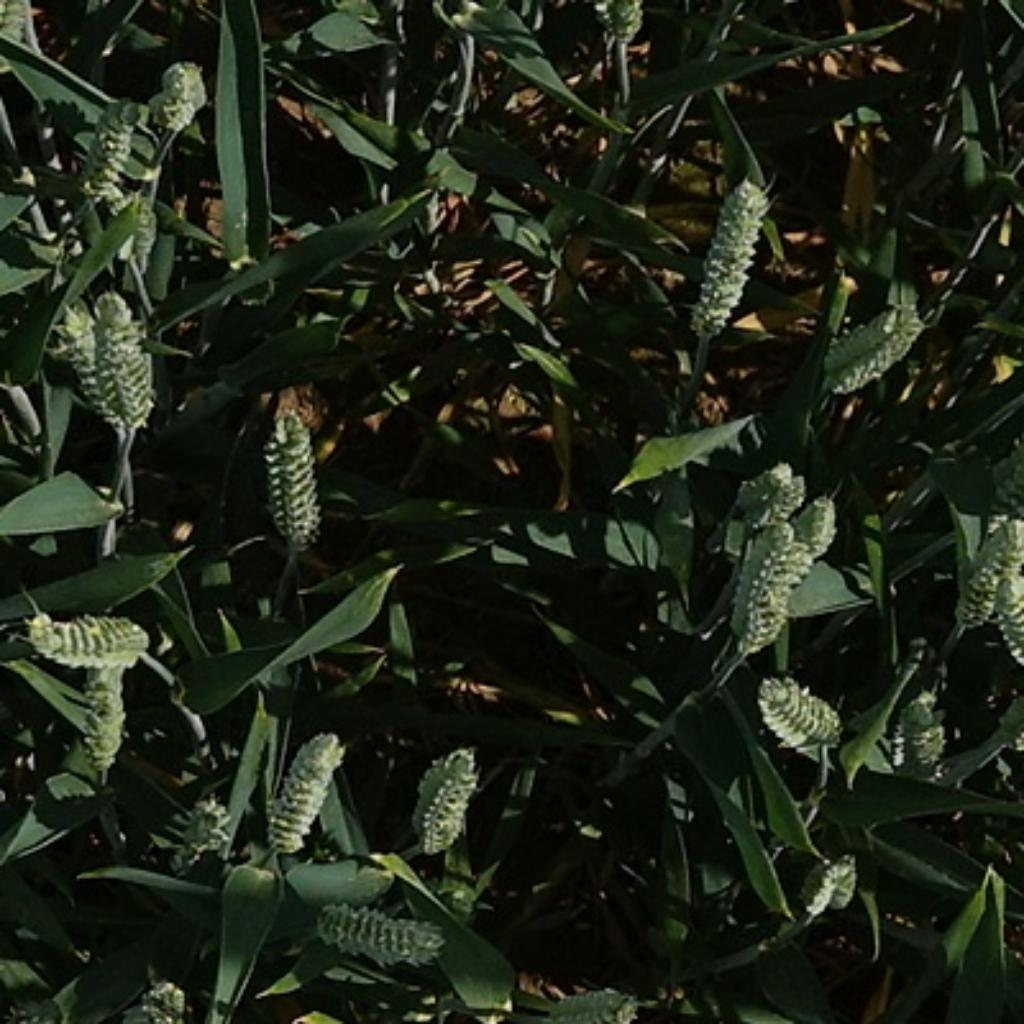0-0: (56, 69, 202, 217), (248, 716, 353, 852), (692, 173, 769, 336), (84, 284, 166, 435), (724, 541, 837, 650), (51, 304, 138, 435), (10, 601, 156, 673), (815, 310, 929, 401), (404, 737, 488, 860), (267, 396, 330, 549), (315, 893, 453, 961), (957, 513, 1024, 637), (70, 663, 139, 773), (755, 670, 843, 751), (724, 455, 811, 535), (752, 494, 839, 573), (145, 48, 217, 138), (890, 687, 956, 776), (166, 785, 238, 865), (536, 977, 649, 1024), (989, 577, 1024, 682), (812, 857, 858, 912)
